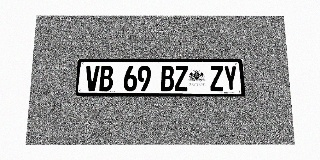6: (123, 66, 137, 91)
9: (137, 66, 151, 91)
B: (99, 66, 113, 91), (161, 66, 174, 91)
V: (85, 66, 99, 91)
Y: (223, 66, 238, 91)
Z: (209, 66, 224, 91), (174, 66, 188, 91)
